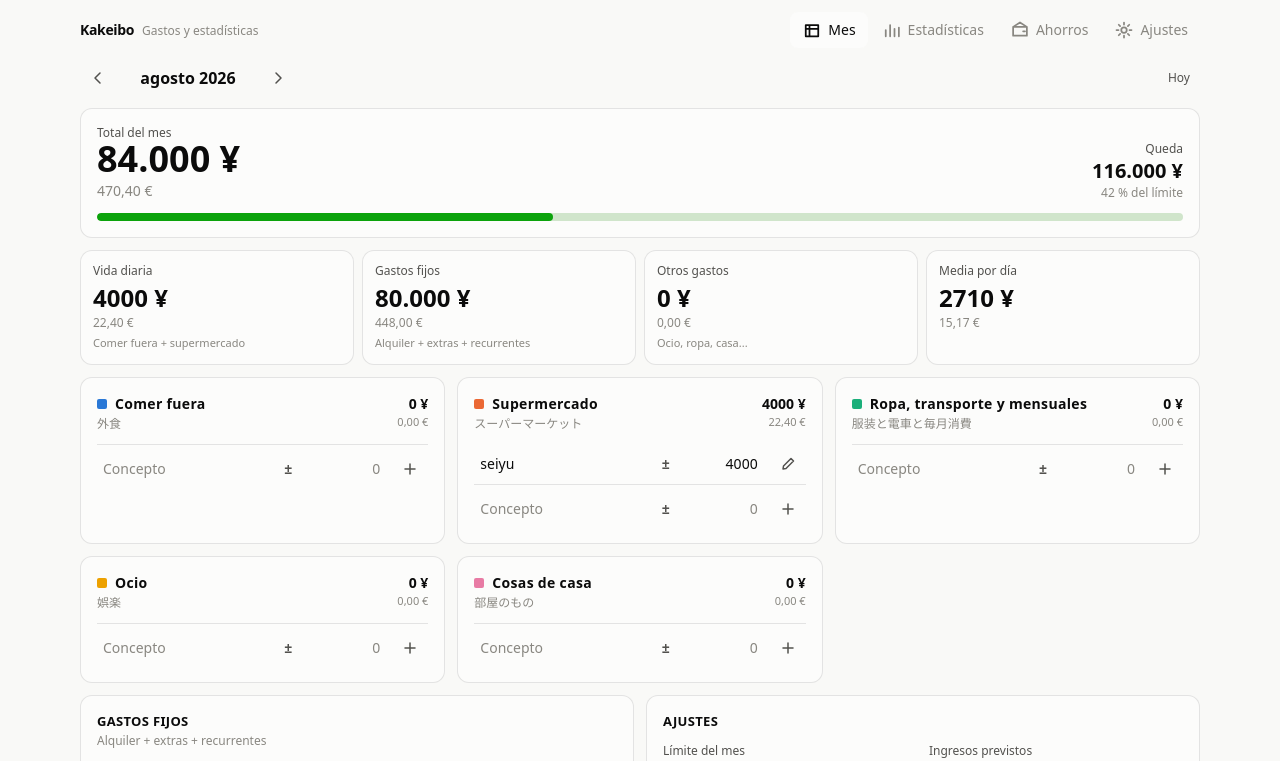
Test: la aplicacion › cambia de mes con las flechas
Click the button named "Mes anterior": (98, 78) top-left (80, 60), bottom-right (116, 96)
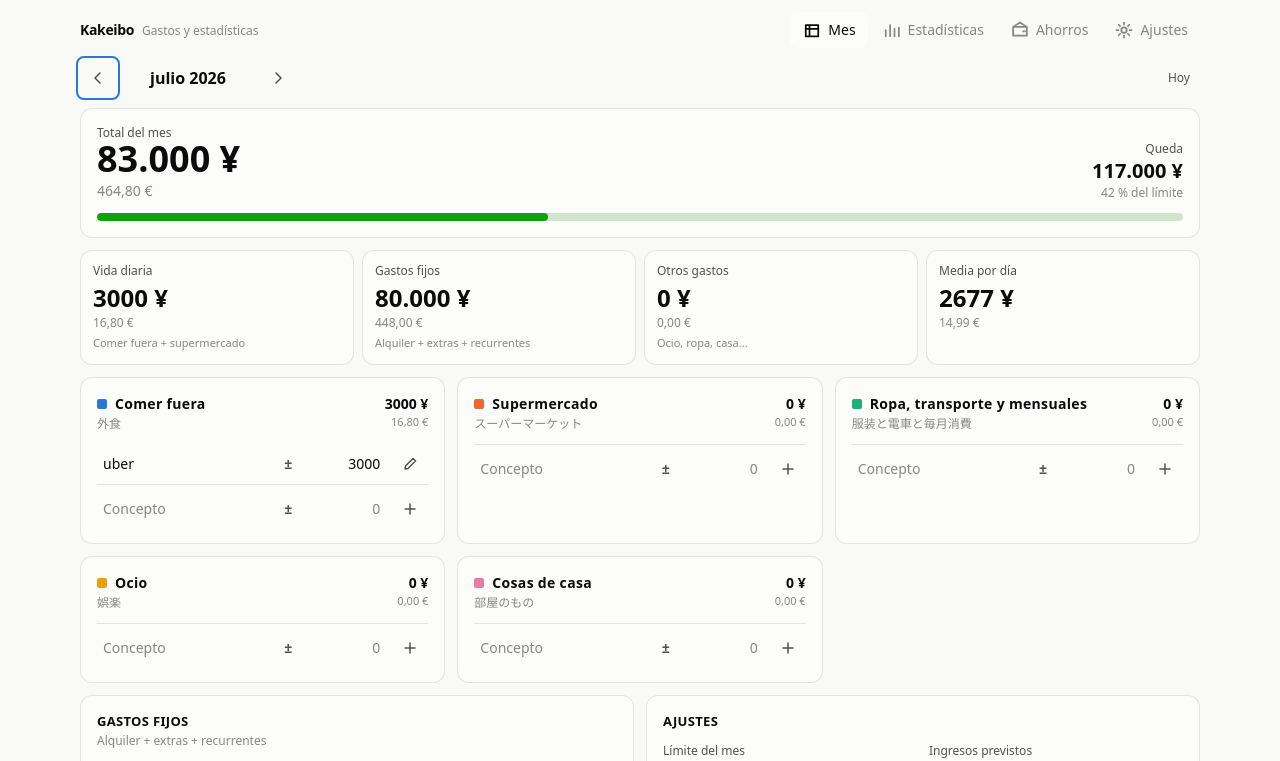
Now the field showing "uber" is shown, box top-left (97, 448), bottom-right (264, 480)
